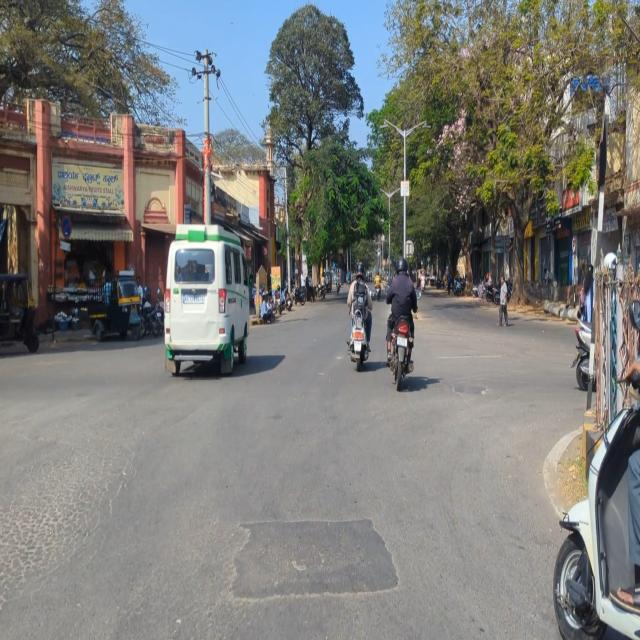bien_cam: (61, 216, 72, 238), (571, 235, 576, 255)
